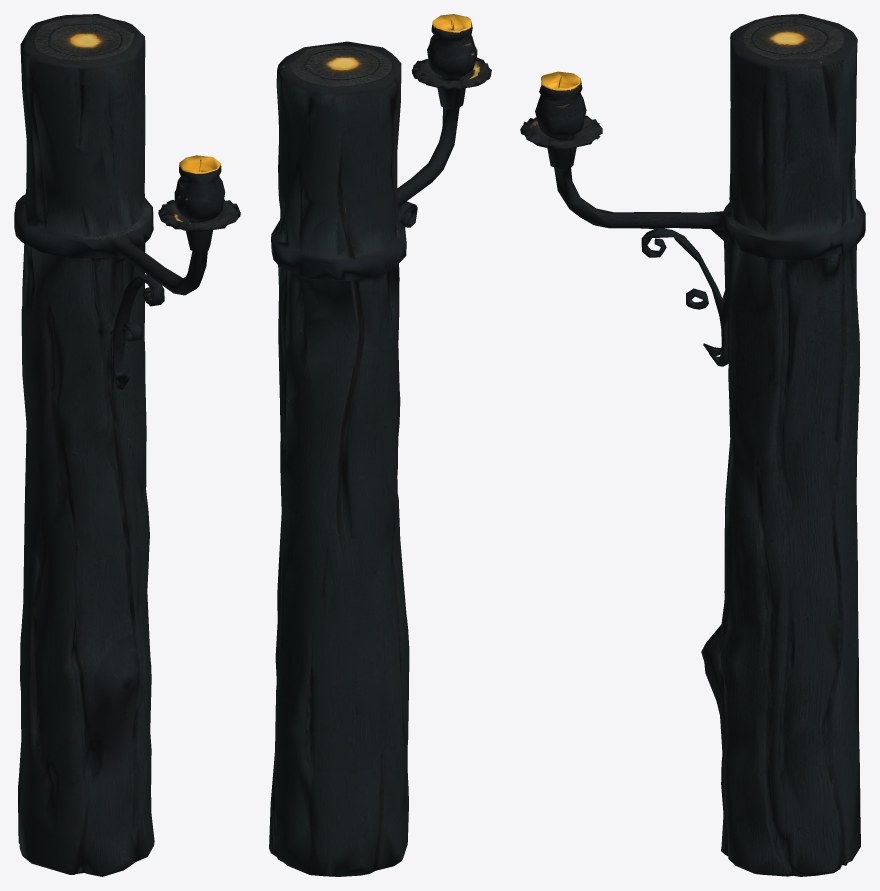
The model's file is torch-post.glb.
The picture shows the model from 3 angles, left to right: view 1: azimuth 30°, elevation 25°; view 2: azimuth 150°, elevation 25°; view 3: azimuth 270°, elevation 25°; orthographic projection. The views are drawn at different scales.
Size of the model in its own units: 0.2962 by 1.9 by 0.7317.
1 material, 1 textured.
